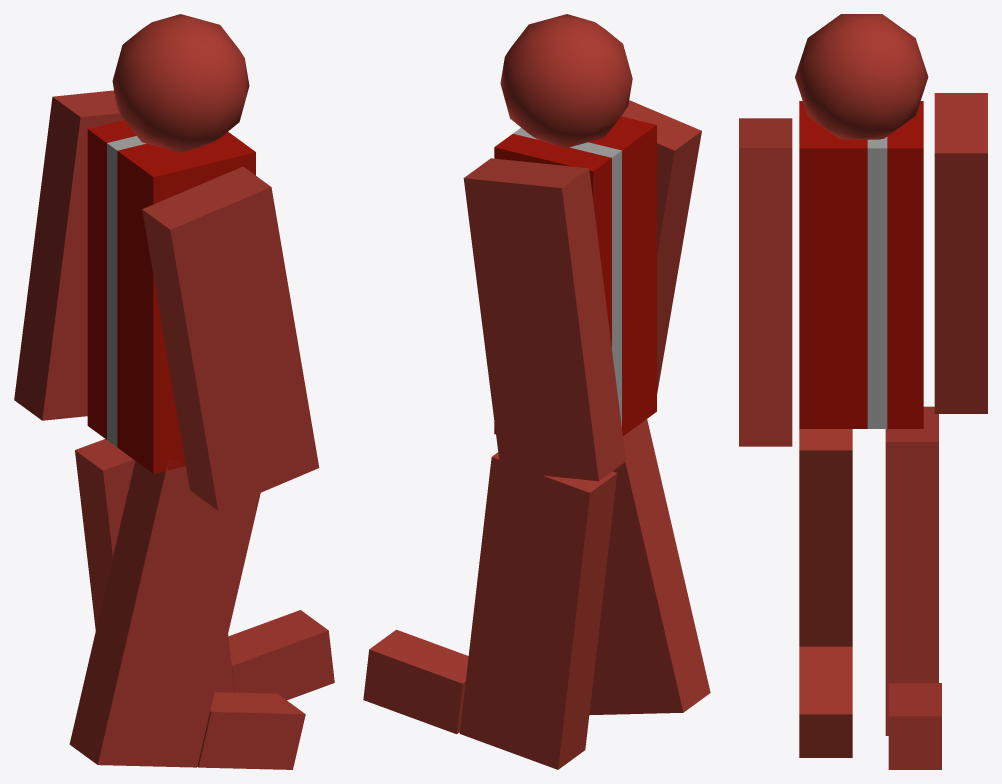
Rendered from player_000071.obj.
3 views of the same model, side by side, from view 1: azimuth 30°, elevation 25°; view 2: azimuth 150°, elevation 25°; view 3: azimuth 270°, elevation 25° (orthographic). The views are drawn at different scales.
Visible parts, largest first — view 1: Cube.013, Cube.010, Cube.007, Cube.012, Icosphere.001, Cube.009, Cube.011, Cube.008; view 2: Cube.012, Cube.008, Cube.010, Cube.007, Icosphere.001, Cube.009, Cube.013; view 3: Cube.007, Cube.013, Cube.012, Cube.008, Icosphere.001, Cube.010, Cube.011, Cube.009.
Part boxes in pixels (x1=…): Cube.013: x1=142, y1=166, x2=319, y2=510; Cube.010: x1=69, y1=460, x2=260, y2=767; Cube.007: x1=87, y1=120, x2=255, y2=473; Cube.012: x1=14, y1=90, x2=124, y2=420; Icosphere.001: x1=112, y1=14, x2=249, y2=152; Cube.009: x1=228, y1=610, x2=334, y2=700; Cube.011: x1=197, y1=692, x2=305, y2=769; Cube.008: x1=75, y1=439, x2=234, y2=692; Cube.012: x1=463, y1=158, x2=625, y2=481; Cube.008: x1=459, y1=452, x2=617, y2=769; Cube.010: x1=589, y1=419, x2=710, y2=715; Cube.007: x1=494, y1=116, x2=656, y2=435; Icosphere.001: x1=500, y1=14, x2=632, y2=148; Cube.009: x1=363, y1=629, x2=468, y2=734; Cube.013: x1=621, y1=100, x2=701, y2=393; Cube.007: x1=799, y1=101, x2=923, y2=428; Cube.013: x1=739, y1=118, x2=792, y2=446; Cube.012: x1=934, y1=93, x2=987, y2=413; Cube.008: x1=885, y1=406, x2=938, y2=735; Icosphere.001: x1=795, y1=14, x2=928, y2=139; Cube.010: x1=799, y1=429, x2=852, y2=646; Cube.011: x1=799, y1=646, x2=852, y2=757; Cube.009: x1=888, y1=683, x2=941, y2=769.
Bounding box in the file's own units: 1.14 × 2.86 × 0.9137.
